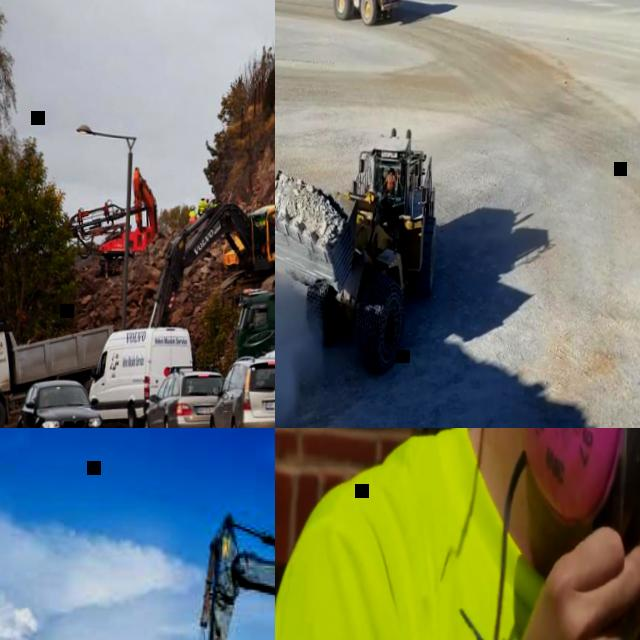Hardhat: (269, 217, 273, 223), (205, 196, 209, 202), (200, 195, 205, 199), (190, 205, 194, 210), (211, 196, 215, 200)
Mask: (512, 428, 640, 557)
NO-Hardhat: (388, 169, 393, 174)
NO-Safety Vest: (339, 428, 640, 640), (385, 177, 395, 191)
Person: (275, 428, 640, 640), (380, 169, 398, 192), (197, 195, 205, 215), (188, 205, 197, 220), (268, 216, 275, 235), (209, 196, 216, 208), (204, 196, 209, 208)
Safety Vest: (197, 201, 206, 214), (271, 219, 275, 234), (188, 211, 196, 218), (210, 201, 216, 207), (205, 202, 208, 208)
vehicle: (275, 116, 446, 379), (144, 198, 275, 335), (50, 163, 160, 278), (0, 317, 112, 428), (184, 508, 275, 640), (85, 323, 193, 428), (206, 353, 275, 428), (140, 368, 224, 428), (14, 377, 104, 428), (233, 285, 275, 366), (317, 0, 410, 28), (261, 349, 275, 377)
